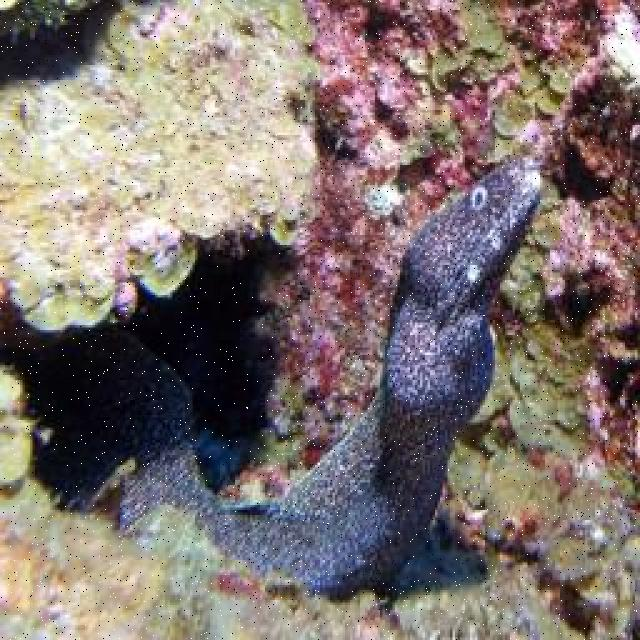fish: (120, 150, 545, 602)
